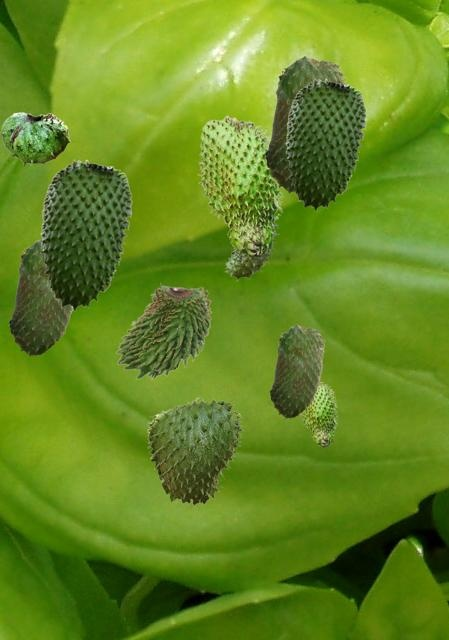guyabano: (40, 159, 131, 310), (197, 115, 283, 260), (264, 55, 346, 193), (147, 397, 243, 507), (285, 78, 365, 210), (115, 282, 211, 378), (8, 238, 72, 356), (269, 324, 324, 418), (0, 112, 69, 166), (224, 220, 279, 280), (300, 381, 337, 447)
